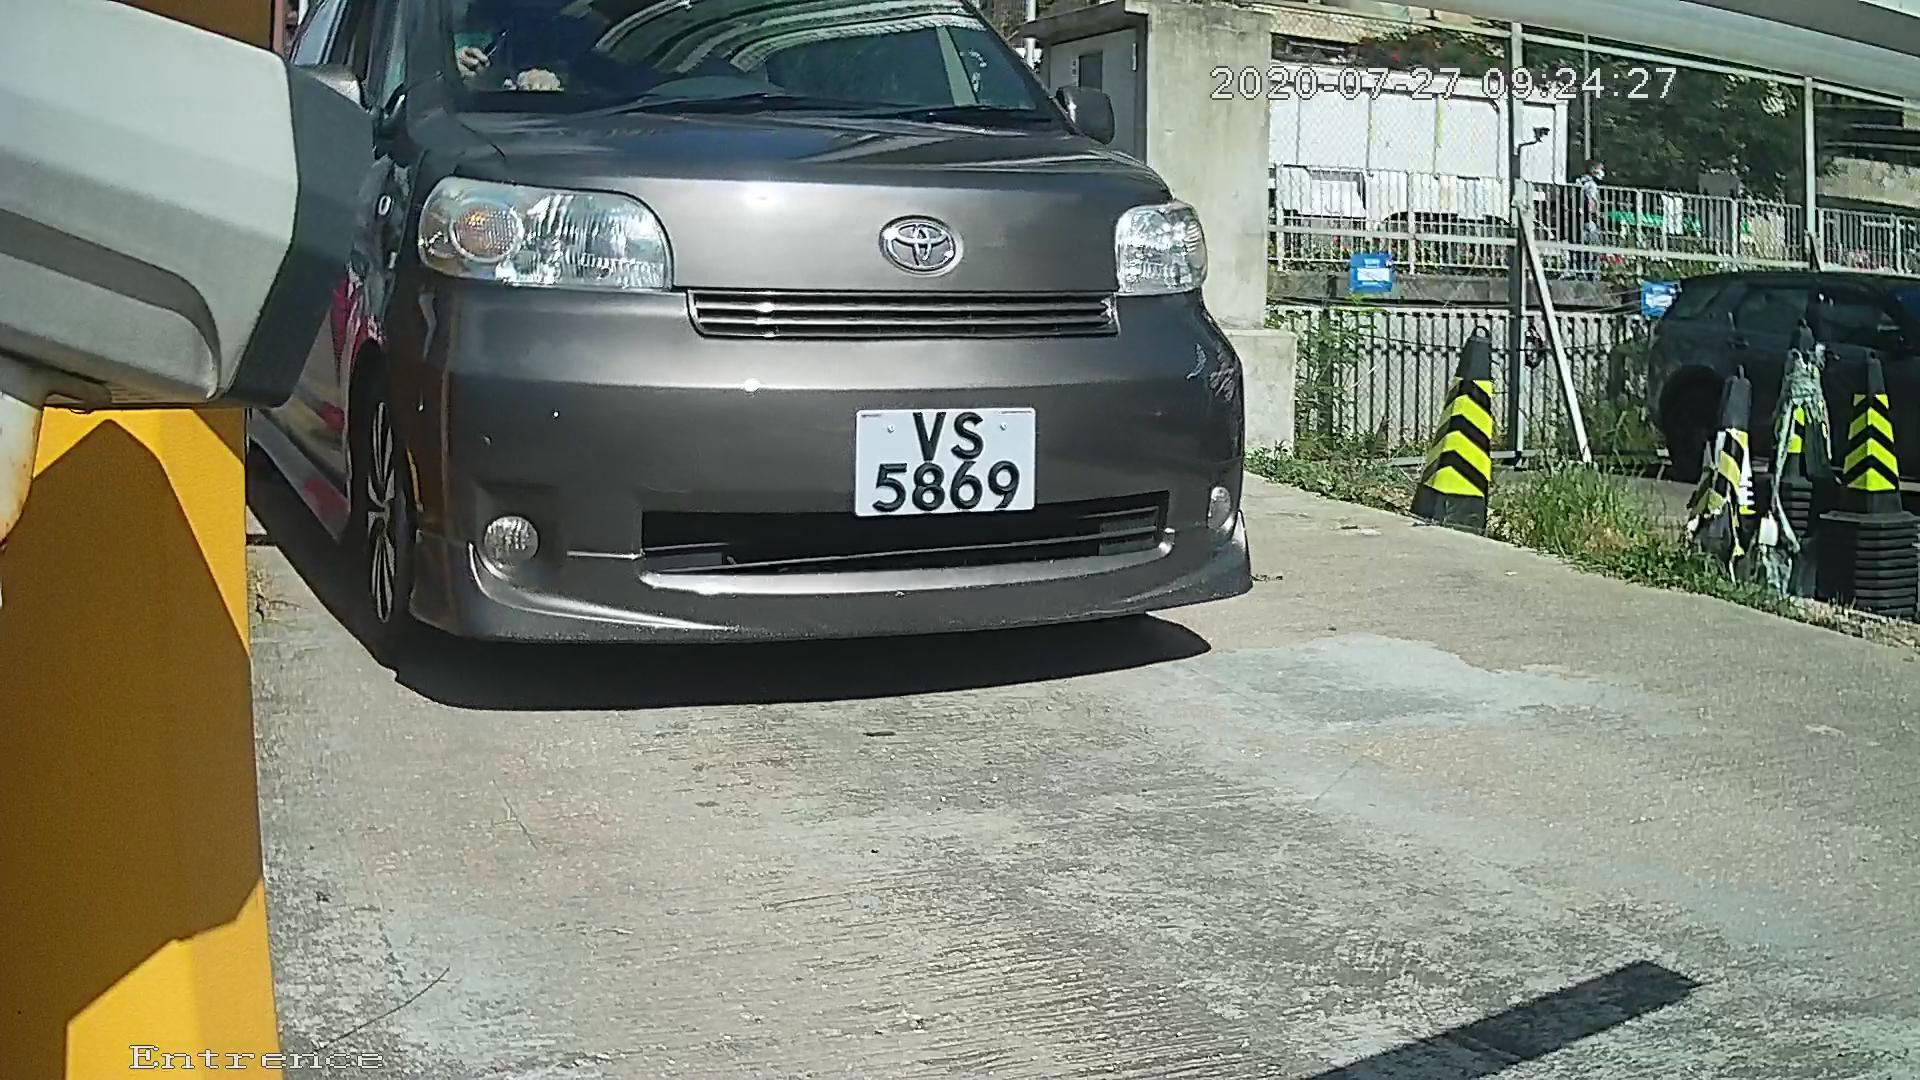Car: (103, 29, 1338, 753)
License Plate: (841, 381, 1055, 545)
